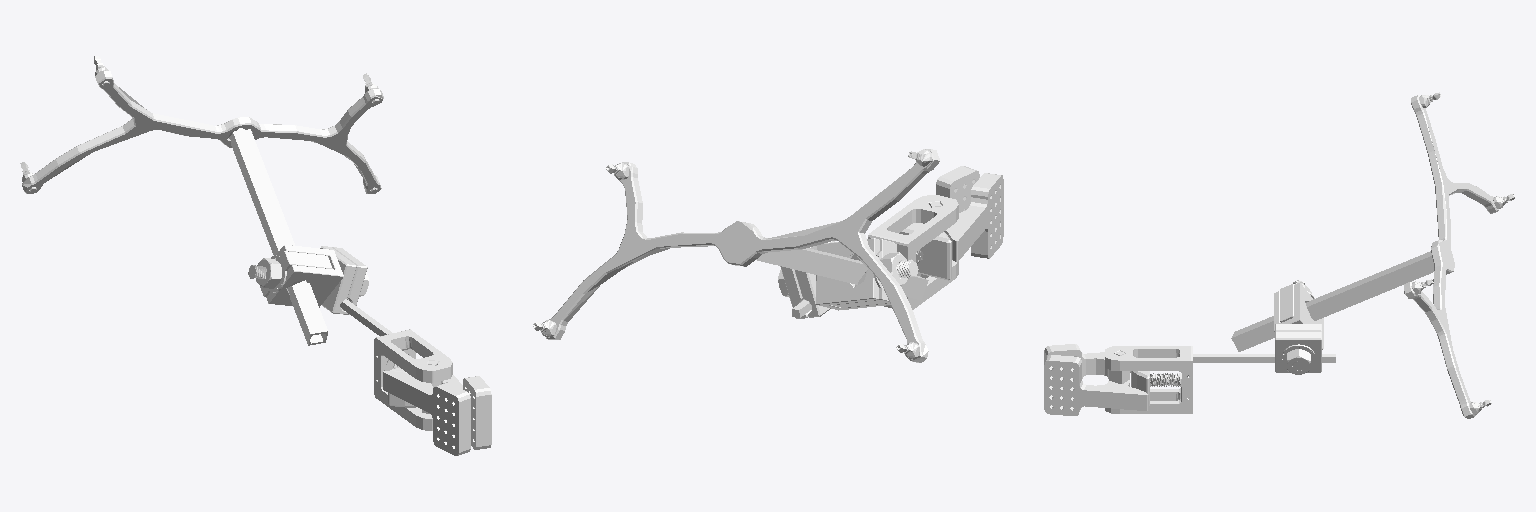
robot.urdf — cube:
<?xml version="1.0" ?>
<robot name="cube">
  <link name="baseLink">
    <contact>
      <lateral_friction value="1.0"/>
      <rolling_friction value="0.0"/>
      <contact_cfm value="0.0"/>
      <contact_erp value="1.0"/>
    </contact>
    <inertial>
      <origin rpy="0 0 0" xyz="0 0 0"/>
       <mass value="1.0"/>
       <inertia ixx="1" ixy="0" ixz="0" iyy="1" iyz="0" izz="1"/>
    </inertial>
    <visual>
      <origin rpy="0 0 0" xyz="0 0 0"/>
      <geometry>
				<mesh filename="prm-asm.stl" scale="0.001 0.001 0.001"/>
      </geometry>
       <material name="white">
        <color rgba="1 1 1 1"/>
      </material>
    </visual>
    <collision concave="yes">
      <geometry>
      <mesh filename="prm-asm.stl" scale="0.001 0.001 0.001"/> 
      </geometry>
    </collision>
  </link>
</robot>

--- Render facts (derived) ---
Views: 3 orthographic renders of the robot side by side, from view 1: azimuth 30°, elevation 25°; view 2: azimuth 150°, elevation 25°; view 3: azimuth 270°, elevation 25°.
Model cube with 1 links and 0 joints (none), rooted at baseLink, posed every joint at zero.
Links seen in each view (by area): view 1: baseLink; view 2: baseLink; view 3: baseLink.
Link boxes in pixels (bbox=[...]): baseLink: bbox=[20, 56, 491, 455]; baseLink: bbox=[533, 149, 1003, 362]; baseLink: bbox=[1044, 92, 1514, 418].
Size in the robot's own frame: 0.1494 by 0.1986 by 0.114 metres.
1 mesh visuals loaded from 1 distinct referenced files (1 binary STL).